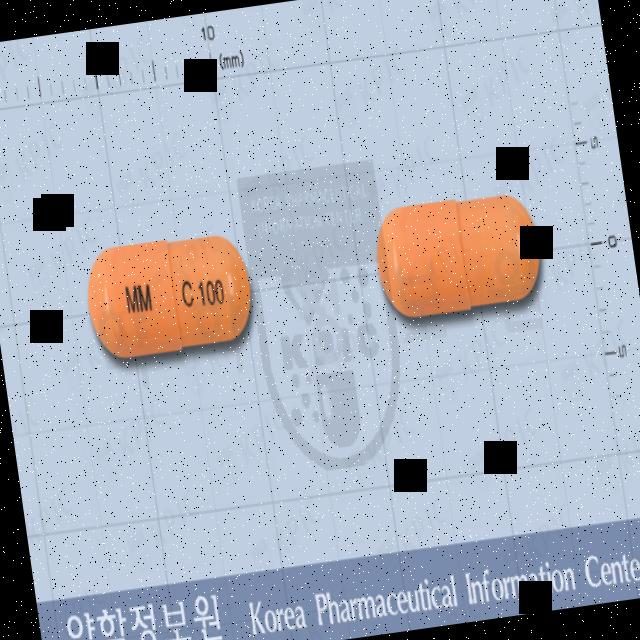Myungmoon Cefixime Cap: (78, 226, 259, 364)
